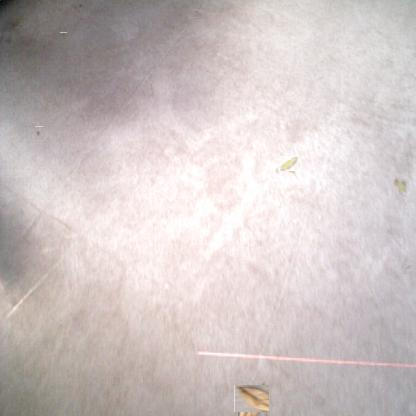dirty: (236, 383, 268, 414), (278, 154, 297, 173), (393, 179, 407, 195)
mark: (193, 9, 202, 19), (35, 126, 43, 137), (273, 165, 280, 177), (402, 264, 410, 272), (78, 1, 84, 9), (60, 32, 67, 38)
